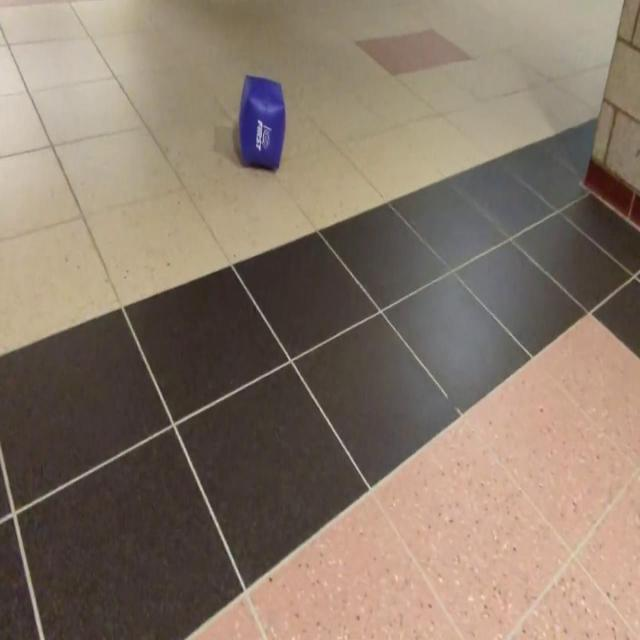frc_cube: (238, 75, 286, 164)
